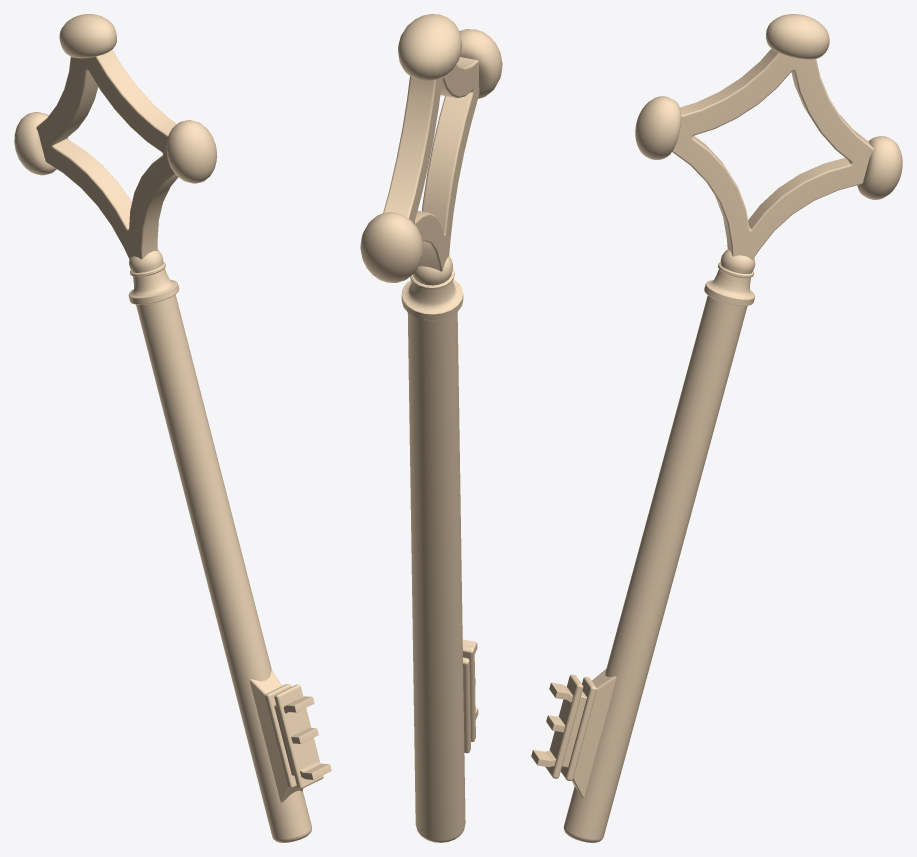
The model's file is KeyOfEpicnessPart2.fbx.
The picture shows the model from 3 angles, left to right: view 1: azimuth 30°, elevation 25°; view 2: azimuth 150°, elevation 25°; view 3: azimuth 270°, elevation 25°; orthographic projection. The views are drawn at different scales.
Parts seen in each view (by area): view 1: pCylinder3, pPlane1, pSphere2, pCube5, pSphere1, pCube3, pSphere3, pCube4; view 2: pCylinder3, pPlane1, pSphere3, pSphere1, pSphere2, pCube4, pCube5; view 3: pCylinder3, pPlane1, pSphere2, pSphere1, pCube3, pSphere3, pCube5, pCube4.
Part boxes in pixels (left/top/right/bottom): pCylinder3: left=128, top=250, right=311, bottom=842; pPlane1: left=36, top=50, right=178, bottom=259; pSphere2: left=166, top=120, right=216, bottom=183; pCube5: left=274, top=684, right=323, bottom=788; pSphere1: left=59, top=14, right=116, bottom=58; pCube3: left=249, top=670, right=303, bottom=802; pSphere3: left=14, top=112, right=56, bottom=175; pCube4: left=265, top=684, right=296, bottom=788; pCylinder3: left=401, top=256, right=465, bottom=842; pPlane1: left=383, top=57, right=479, bottom=271; pSphere3: left=360, top=212, right=422, bottom=282; pSphere1: left=398, top=14, right=462, bottom=80; pSphere2: left=459, top=29, right=502, bottom=98; pCube4: left=463, top=657, right=470, bottom=753; pCube5: left=462, top=645, right=475, bottom=741; pCylinder3: left=563, top=249, right=755, bottom=842; pPlane1: left=672, top=48, right=873, bottom=260; pSphere2: left=635, top=96, right=681, bottom=159; pSphere1: left=766, top=14, right=829, bottom=59; pCube3: left=572, top=668, right=616, bottom=798; pSphere3: left=857, top=136, right=902, bottom=199; pCube5: left=545, top=674, right=583, bottom=778; pCube4: left=560, top=677, right=596, bottom=780.
Bounding box in the file's own units: 1.62 × 8.16 × 3.54.
